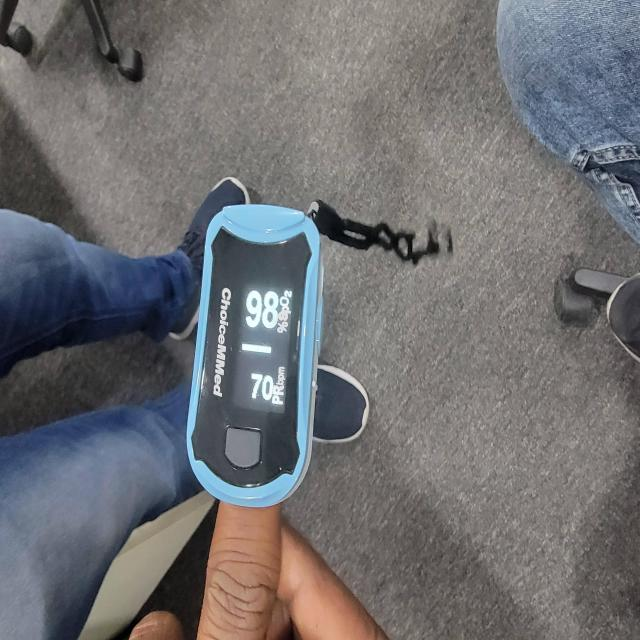spo2: (186, 203, 323, 512)
